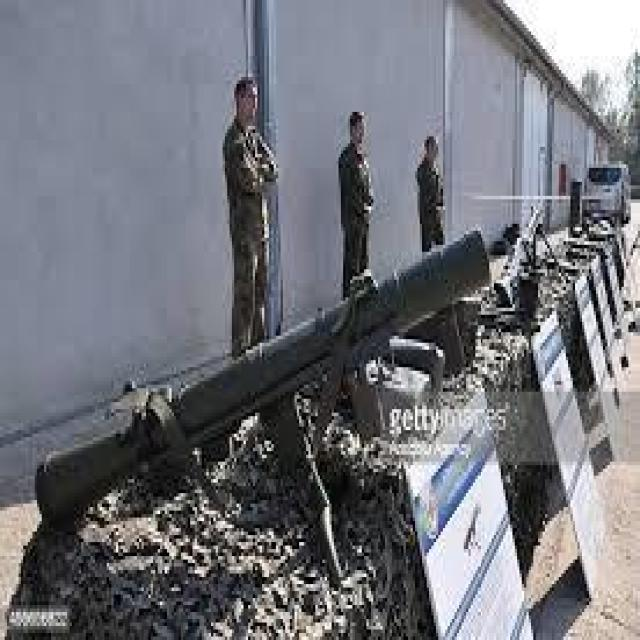bazooka: (27, 227, 503, 540)
